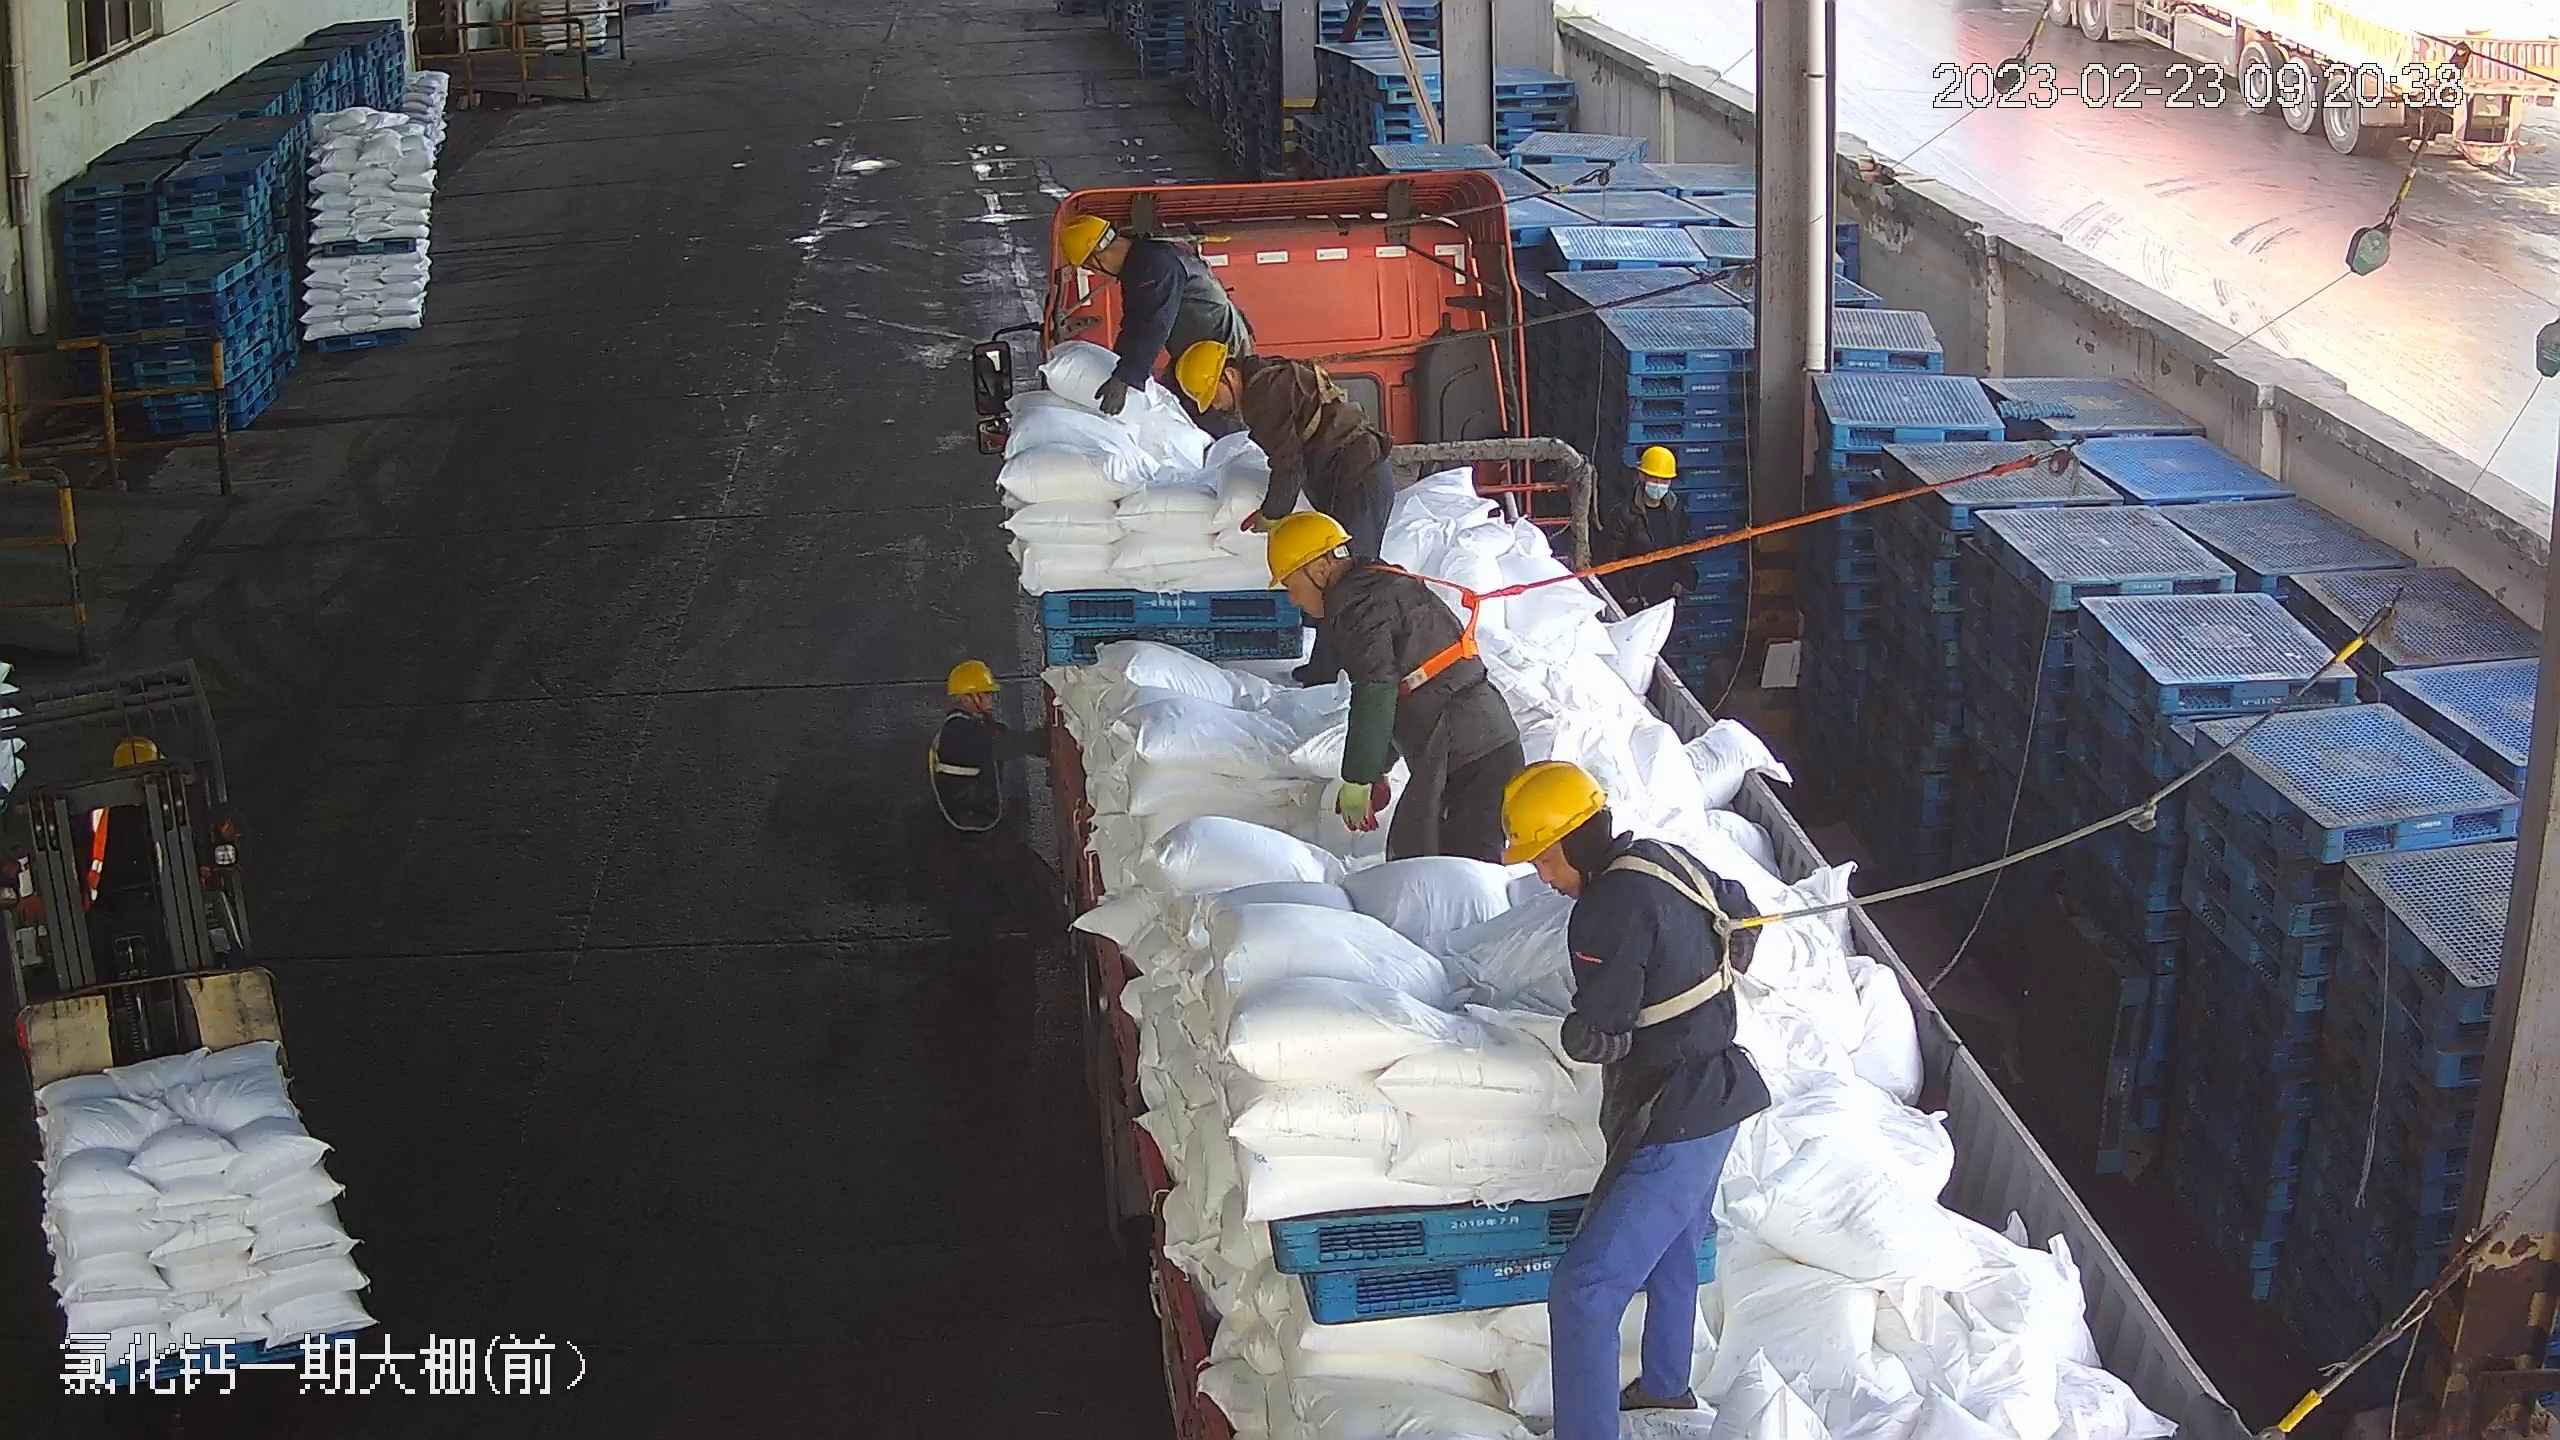belt: (1596, 837, 1788, 1022), (1353, 556, 1518, 694), (1239, 351, 1346, 442), (1145, 226, 1234, 279), (925, 708, 982, 781)
head: (1498, 759, 1724, 945), (1268, 510, 1435, 654), (1064, 212, 1180, 298), (930, 657, 1002, 759), (1613, 445, 1687, 530)
helmet: (1499, 755, 1607, 860), (1265, 510, 1351, 588), (1172, 336, 1232, 411), (1058, 211, 1107, 271), (943, 657, 998, 695), (1636, 442, 1678, 477), (110, 737, 162, 764)
people: (1502, 745, 1774, 1440), (1266, 509, 1528, 862), (1176, 333, 1395, 560), (1058, 204, 1248, 421), (918, 654, 1025, 949), (1598, 443, 1690, 599)
truck: (983, 149, 2248, 1440)
